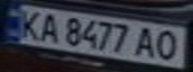4: (78, 17, 100, 50)
7: (93, 19, 115, 52), (112, 21, 133, 55)
8: (60, 15, 84, 47)
A: (133, 25, 160, 60), (36, 11, 63, 44)
K: (15, 7, 45, 40)
O: (151, 28, 184, 62)
